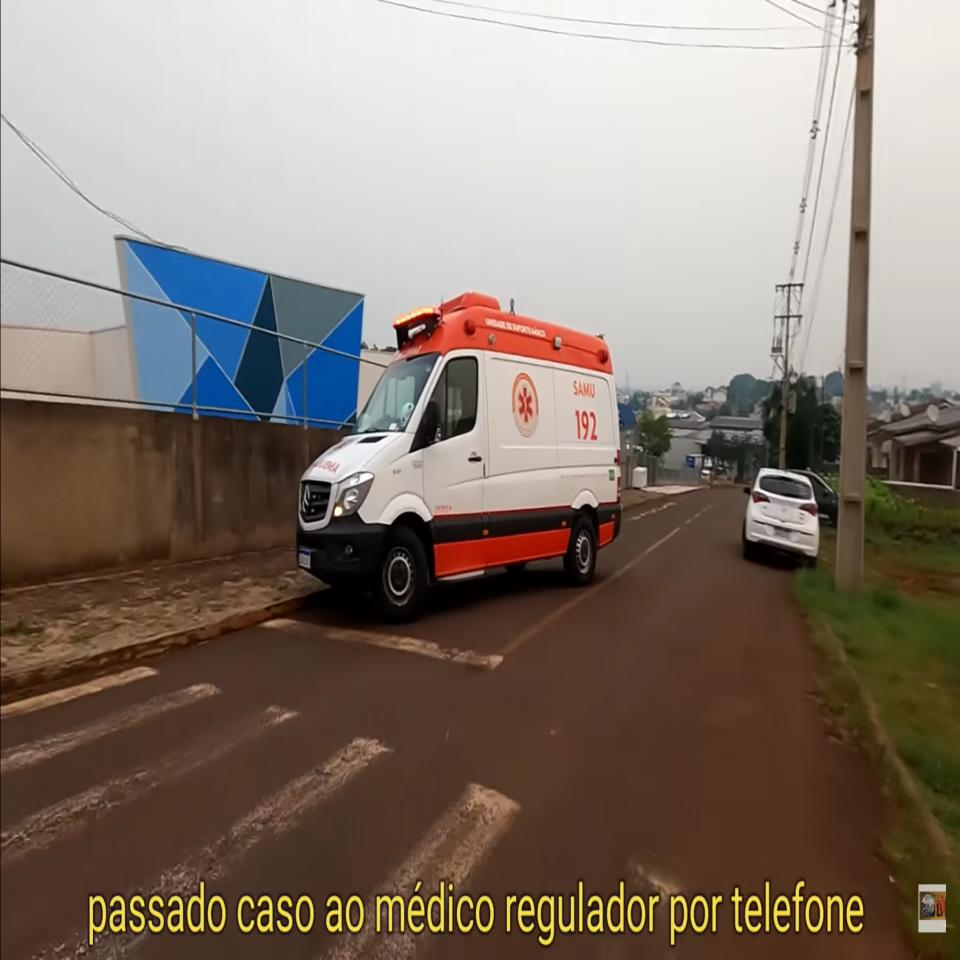bombeiro: (296, 288, 626, 628)
